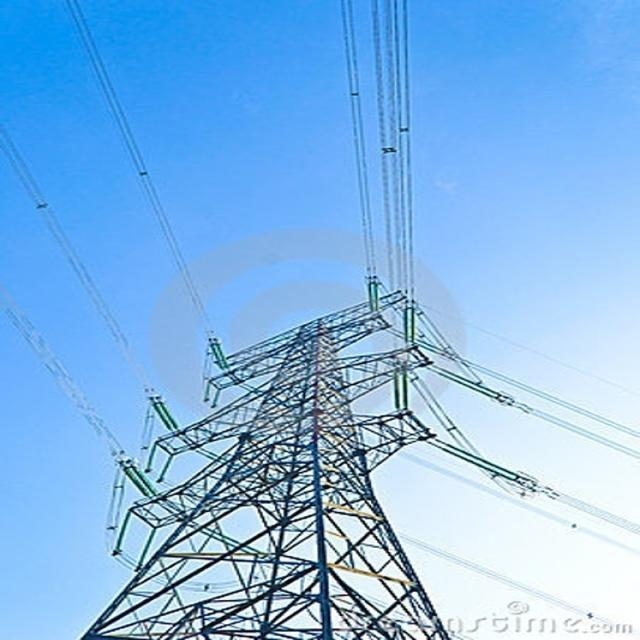non-critical vegetation: (78, 279, 512, 631)
